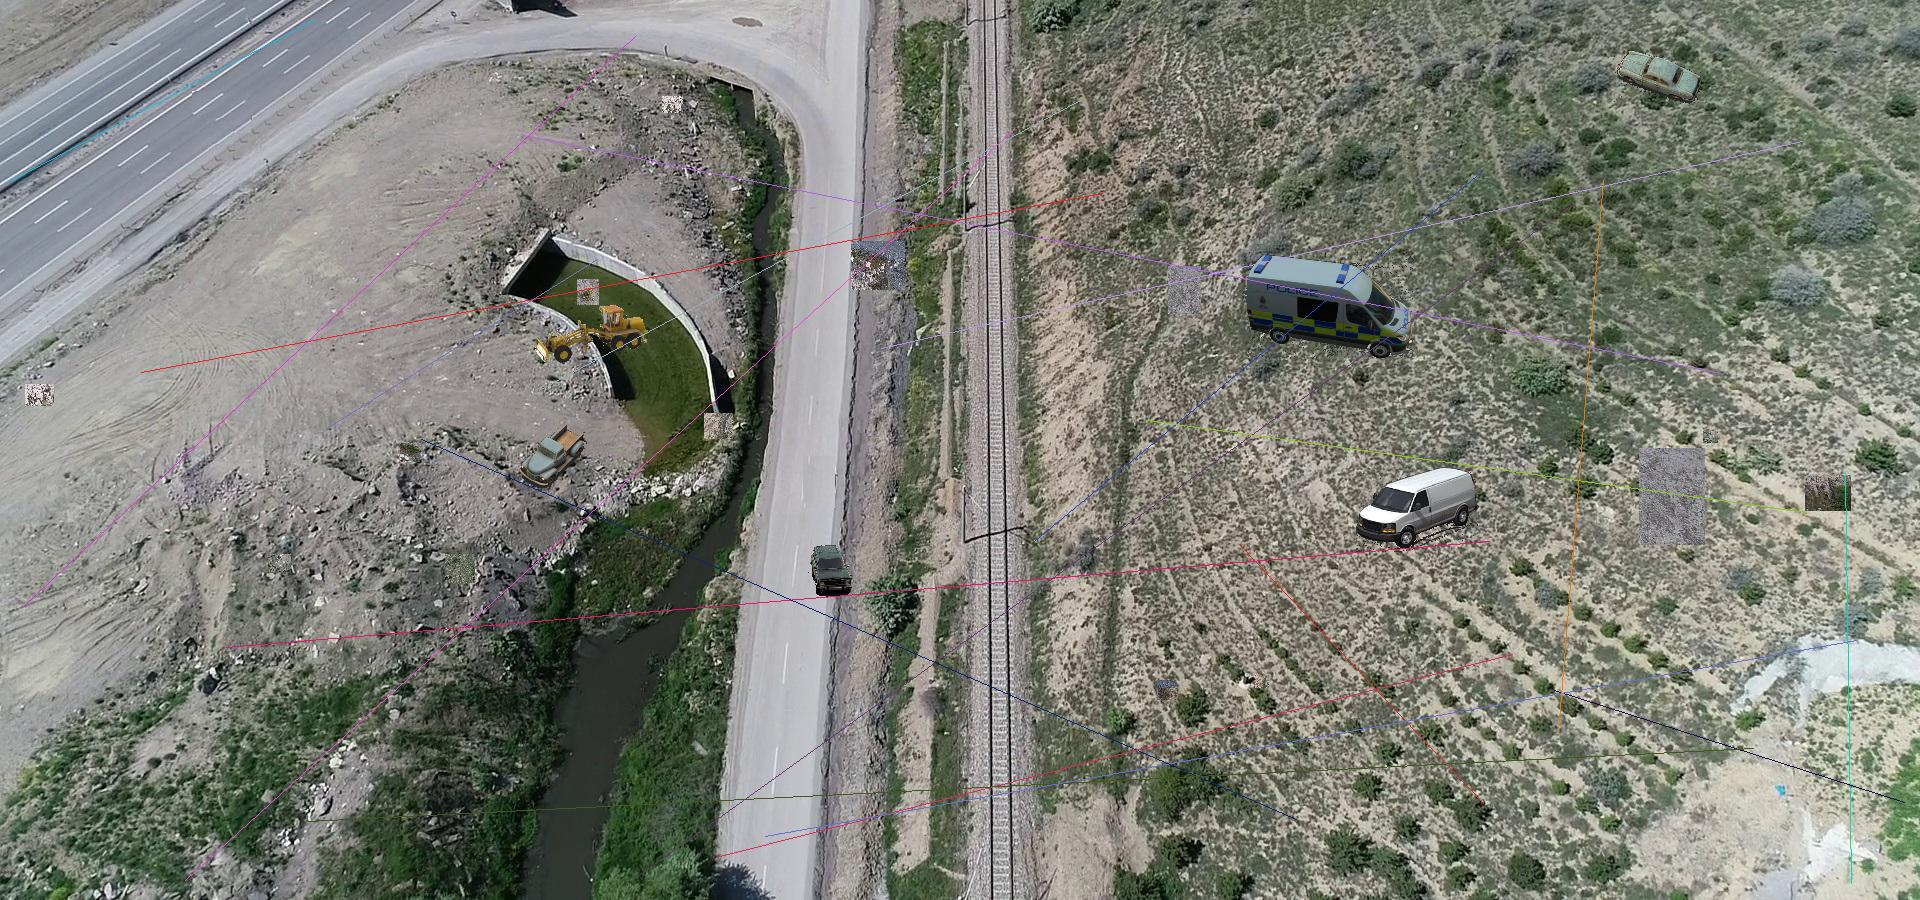arac: (1244, 252, 1413, 358), (1356, 467, 1478, 552), (533, 304, 651, 364), (1613, 47, 1703, 104), (520, 424, 588, 489), (808, 544, 853, 598)
